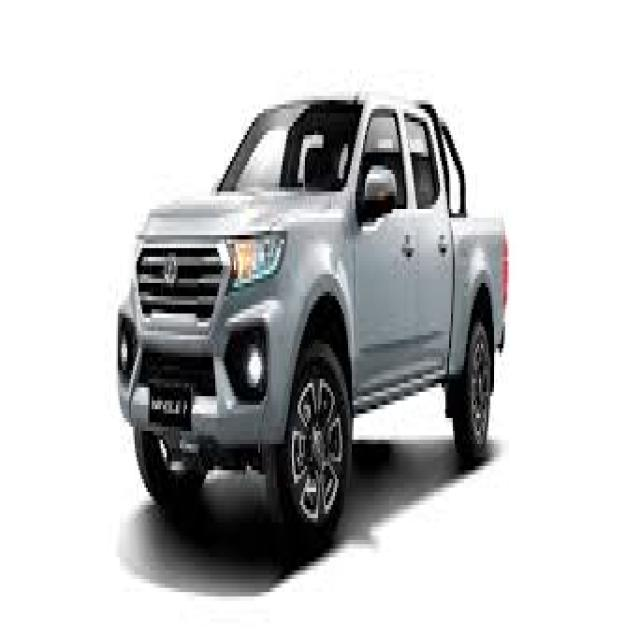CMT: (119, 94, 506, 495)
